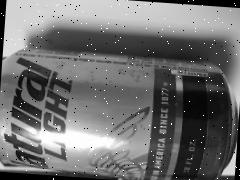metal: (0, 32, 240, 180)
